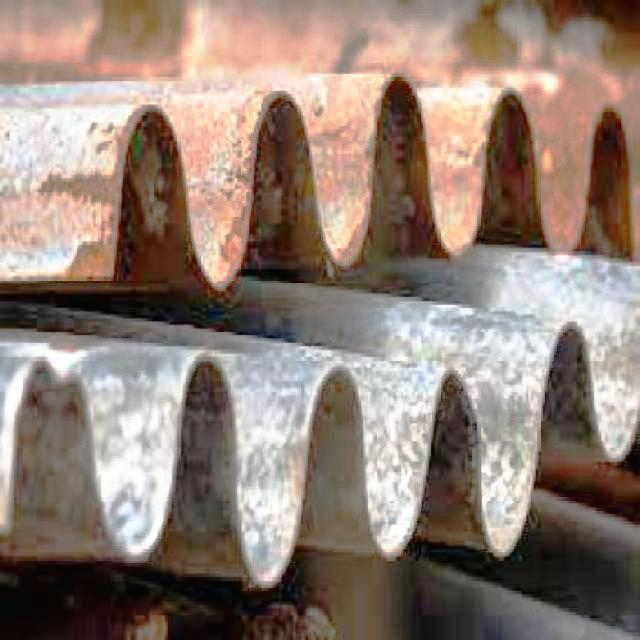Corrosion: (522, 67, 613, 250), (302, 74, 387, 266), (417, 83, 503, 254), (165, 89, 266, 188), (522, 0, 640, 68), (88, 0, 184, 79), (454, 0, 524, 70), (212, 191, 252, 286), (116, 106, 159, 170), (38, 172, 119, 204), (64, 242, 113, 280), (336, 28, 370, 72)
